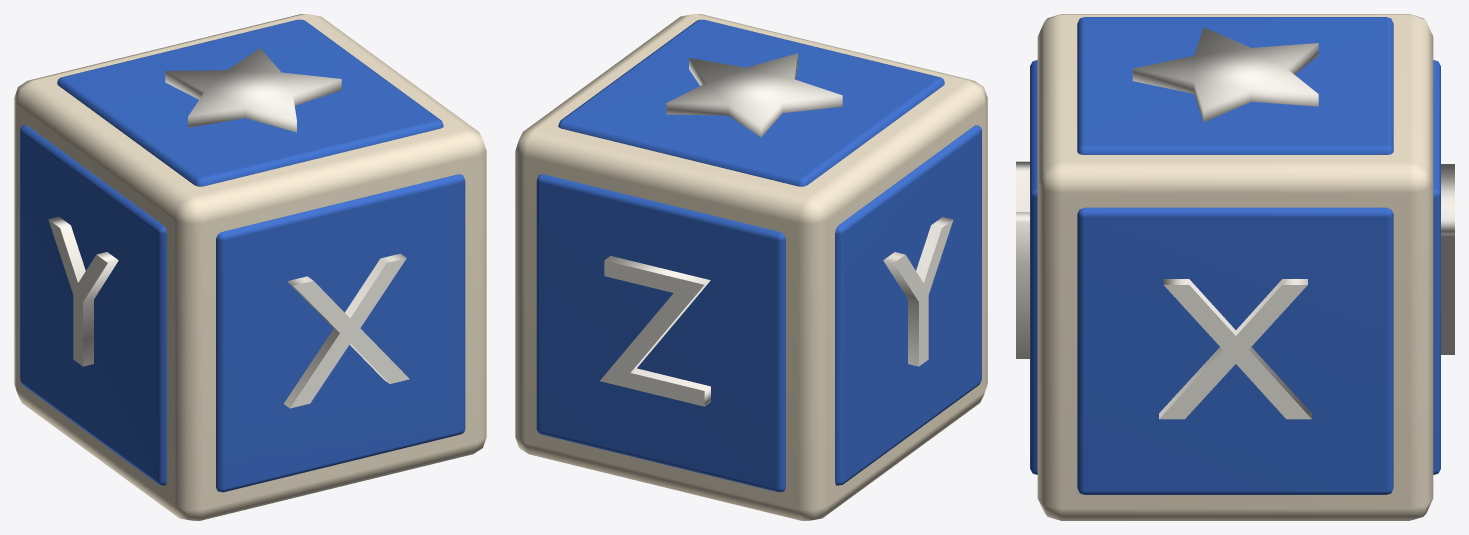
The model's file is toy_block_blue.glb.
3 views of the same model, side by side, from view 1: azimuth 30°, elevation 25°; view 2: azimuth 150°, elevation 25°; view 3: azimuth 270°, elevation 25° (orthographic). The views are drawn at different scales.
Visible parts, largest first — view 1: toy_block_blue; view 2: toy_block_blue; view 3: toy_block_blue.
Boxes of the visible parts, x1=… form: toy_block_blue: x1=14, y1=14, x2=486, y2=520; toy_block_blue: x1=515, y1=14, x2=987, y2=520; toy_block_blue: x1=1016, y1=14, x2=1454, y2=520.
Size of the model in its own units: 2.66 by 2.53 by 2.66.
